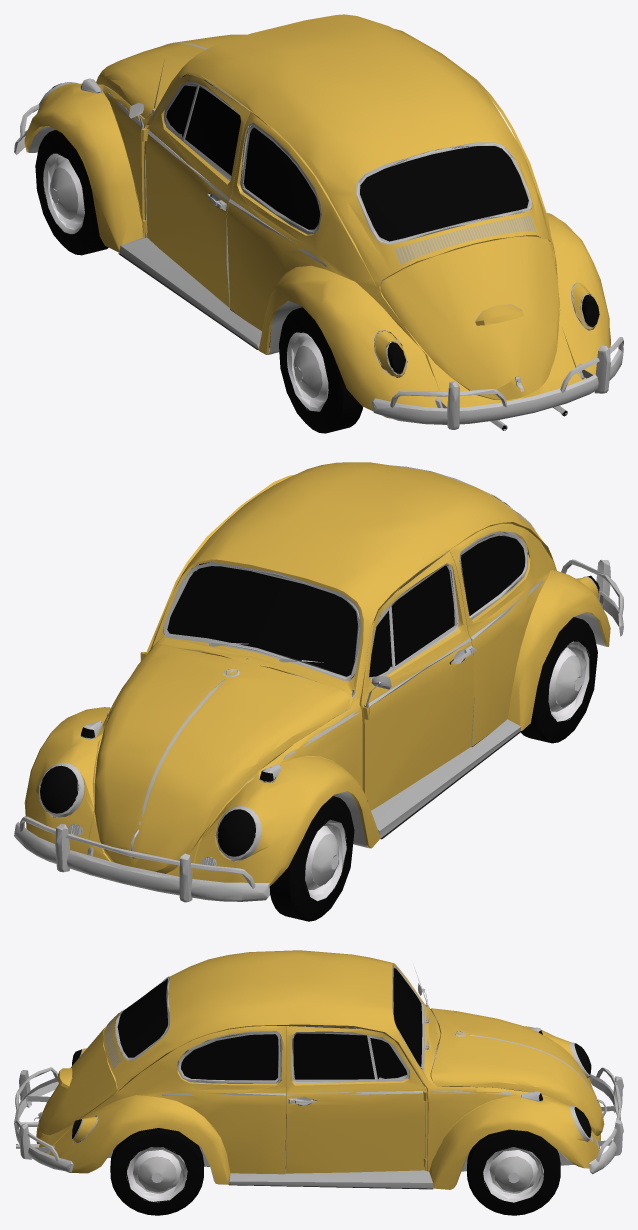
3 renders of one model, top to bottom at view 1: azimuth 30°, elevation 25°; view 2: azimuth 150°, elevation 25°; view 3: azimuth 270°, elevation 25°, orthographic. The views are drawn at different scales.
Parts seen in each view (by area): view 1: static_bumblebee • skin, static_bumblebee • glass, static_bumblebee • chrome, static_bumblebee • nodamage, static_bumblebee • tirea0, static_bumblebee • wheel, static_bumblebee • tlights; view 2: static_bumblebee • skin, static_bumblebee • glass, static_bumblebee • chrome, static_bumblebee • nodamage, static_bumblebee • tirea0, static_bumblebee • wheel, static_bumblebee • tlights; view 3: static_bumblebee • skin, static_bumblebee • glass, static_bumblebee • chrome, static_bumblebee • tirea0, static_bumblebee • nodamage, static_bumblebee • wheel, static_bumblebee • tlights, static_bumblebee • interior_lod0.
Boxes of the visible parts, x1,y1,x2,y2 form: static_bumblebee • skin: (24,14,610,418); static_bumblebee • glass: (166,74,528,241); static_bumblebee • chrome: (14,42,623,430); static_bumblebee • nodamage: (28,74,597,408); static_bumblebee • tirea0: (35,130,362,433); static_bumblebee • wheel: (43,153,328,411); static_bumblebee • tlights: (51,83,599,373); static_bumblebee • skin: (24,462,610,885); static_bumblebee • glass: (167,535,524,677); static_bumblebee • chrome: (14,466,623,902); static_bumblebee • nodamage: (53,465,606,865); static_bumblebee • tirea0: (269,617,597,921); static_bumblebee • wheel: (305,640,589,900); static_bumblebee • tlights: (40,575,599,856); static_bumblebee • skin: (36,950,604,1189); static_bumblebee • glass: (117,968,422,1080); static_bumblebee • chrome: (14,966,623,1192); static_bumblebee • tirea0: (110,1128,560,1215); static_bumblebee • nodamage: (25,965,615,1188); static_bumblebee • wheel: (126,1147,543,1202); static_bumblebee • tlights: (72,1043,591,1138); static_bumblebee • interior_lod0: (119,982,417,1168).
Bounding box in the file's own units: 1.58 × 1.47 × 4.08.
Materials: 12 (7 with a texture image).
